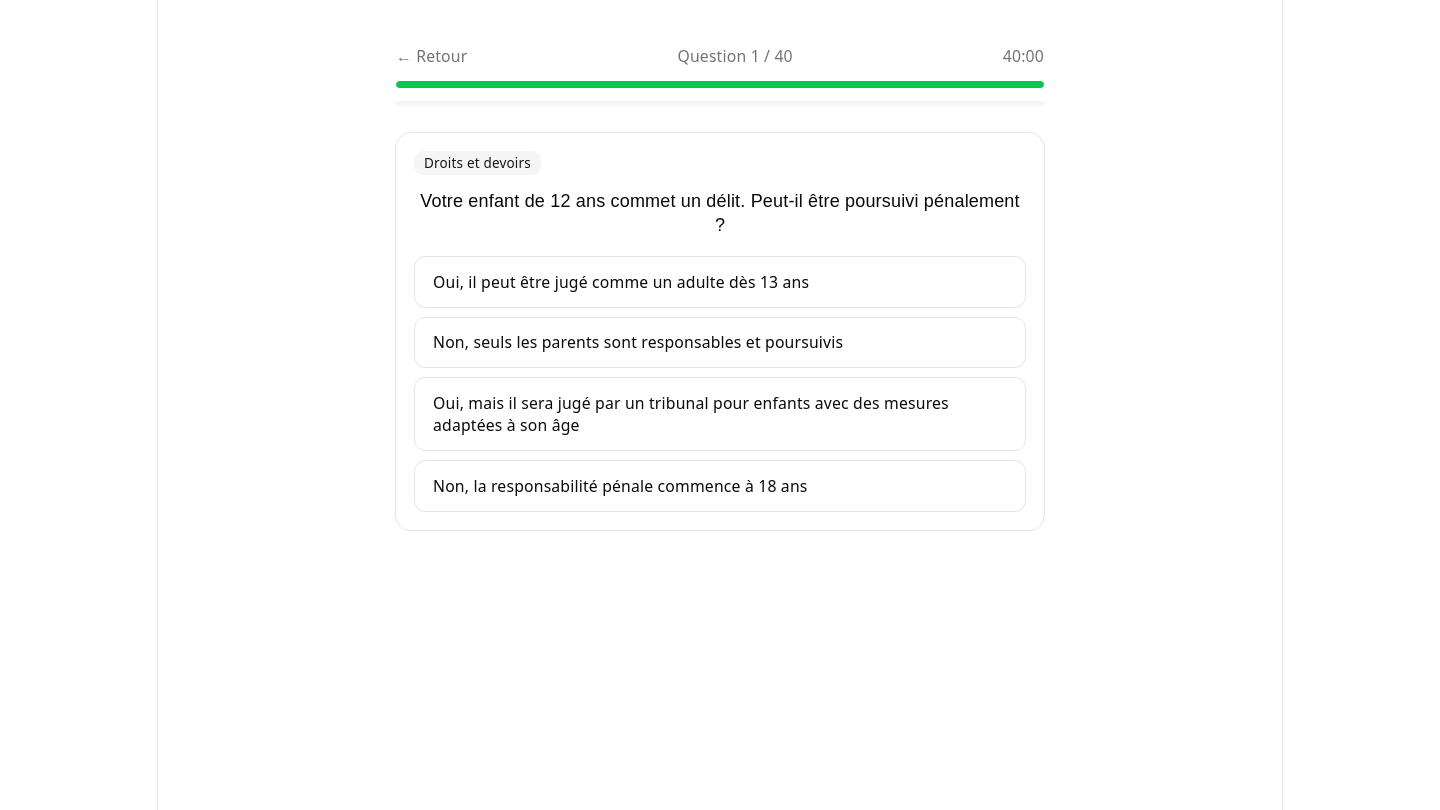
Test case: Examen › après validation, le bouton "Question suivante" apparaît
Click the button "Oui, il peut être jugé comme un adulte dès 13 ans" at coordinates (720, 282), box [414, 256, 1026, 308]
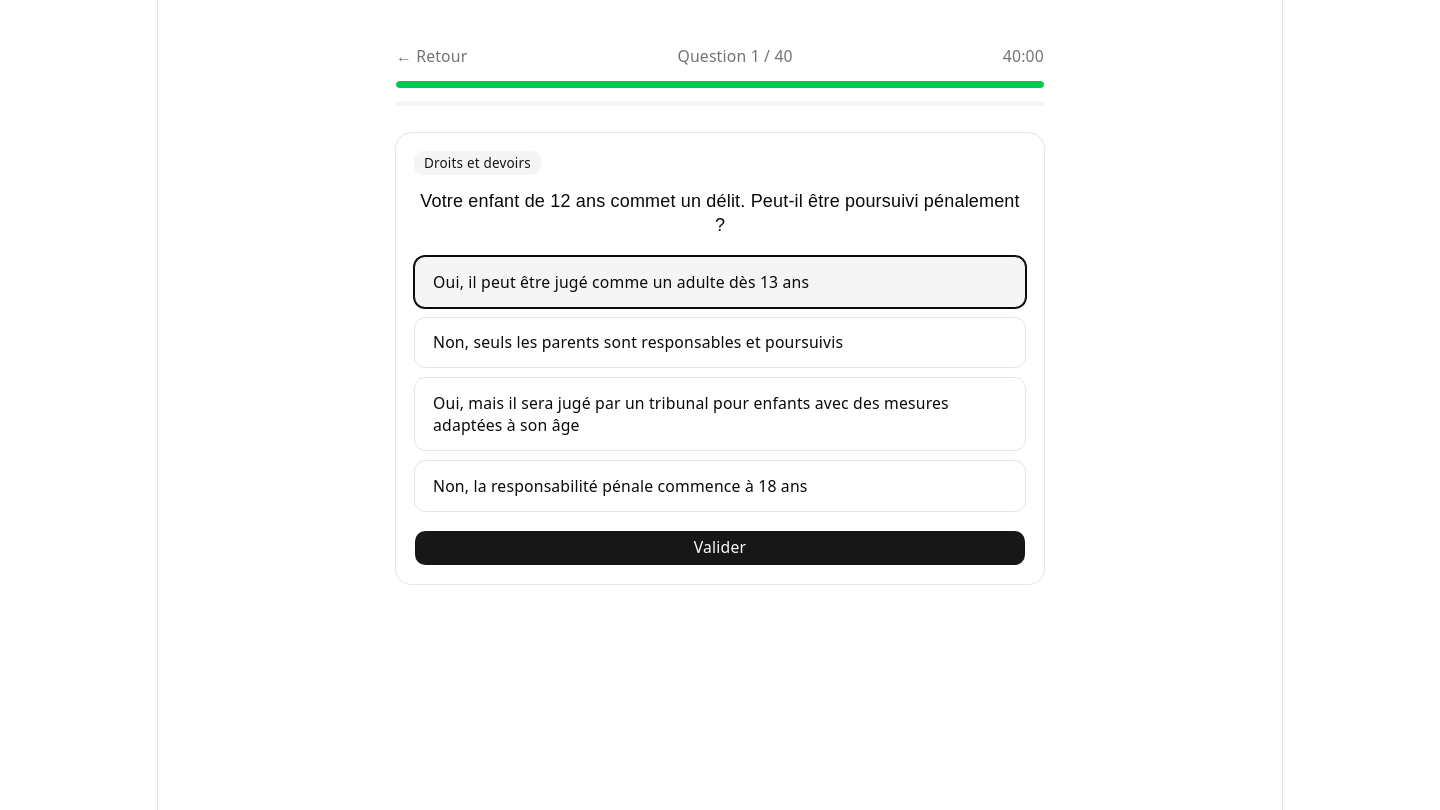
Click the button "Valider" at coordinates (720, 548), box [414, 530, 1026, 566]
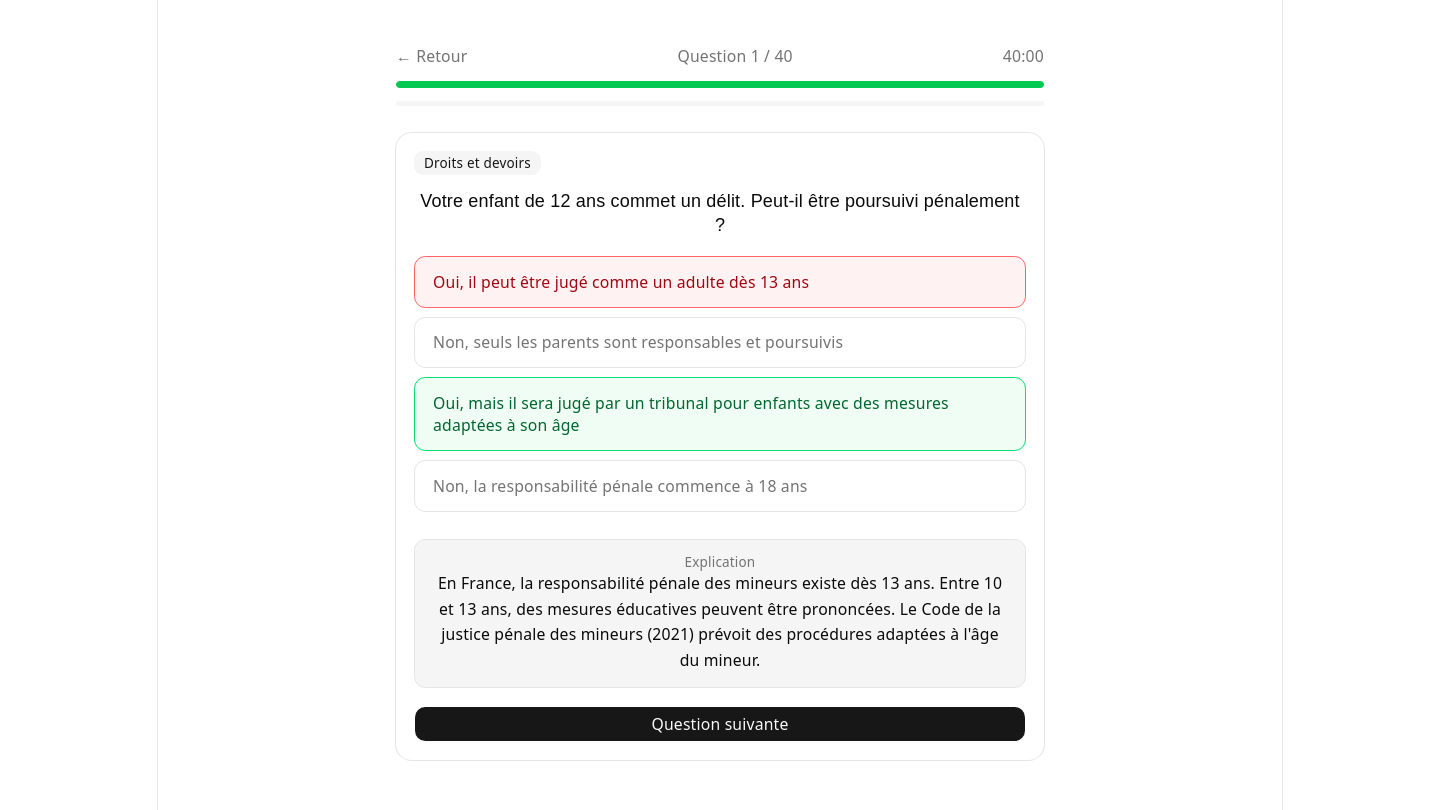
Expected: the button "Question suivante" is shown, [414, 706, 1026, 742]
